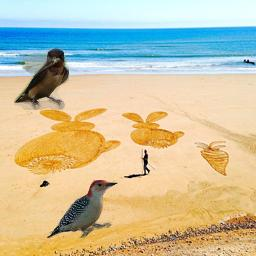Swallow: (14, 48, 69, 110)
Woodpecker: (47, 180, 119, 238)
